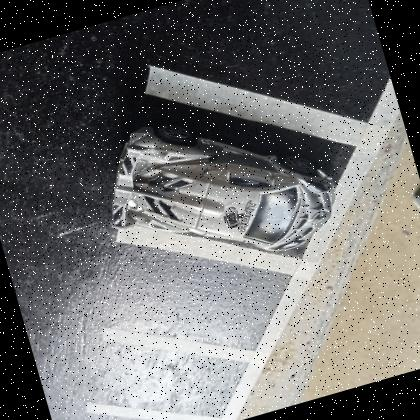Car: (110, 119, 334, 251)
